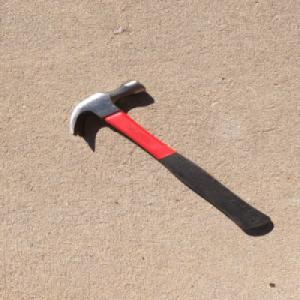Hammer: (67, 78, 275, 232)
